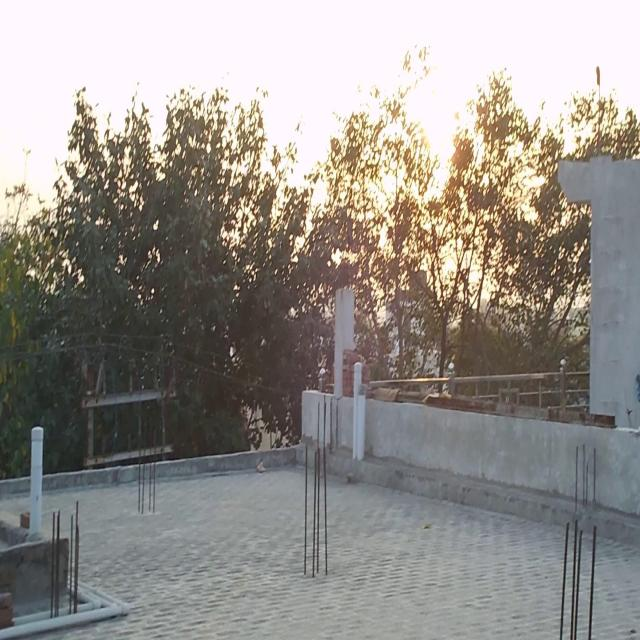other: (334, 4, 559, 291)
